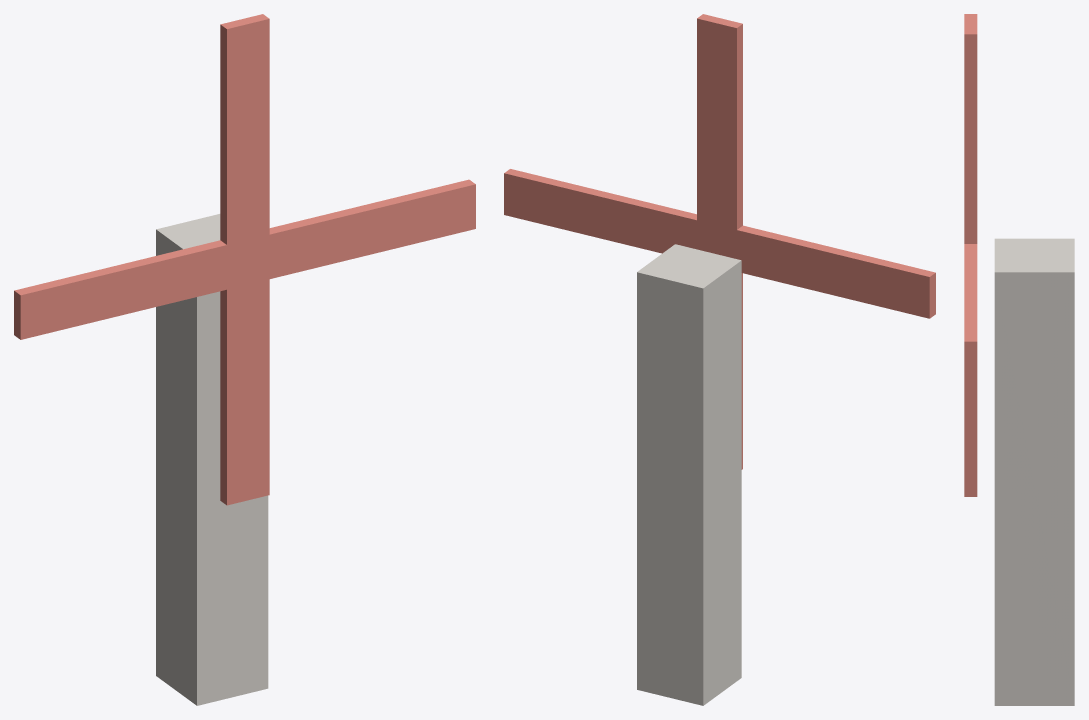
The model's file is windmill.gltf.
3 views of the same model, side by side, from view 1: azimuth 30°, elevation 25°; view 2: azimuth 150°, elevation 25°; view 3: azimuth 270°, elevation 25° (orthographic). The views are drawn at different scales.
Visible parts, largest first — view 1: Tower, Blade B, Blade A; view 2: Tower, Blade A, Blade B; view 3: Tower, Blade B, Blade A.
Boxes of the visible parts, left/top/right/bottom form: Tower: left=156, top=214, right=268, bottom=705; Blade B: left=220, top=14, right=269, bottom=505; Blade A: left=14, top=179, right=475, bottom=339; Tower: left=637, top=244, right=741, bottom=705; Blade A: left=504, top=169, right=935, bottom=318; Blade B: left=697, top=14, right=742, bottom=469; Tower: left=994, top=238, right=1074, bottom=705; Blade B: left=964, top=14, right=977, bottom=496; Blade A: left=964, top=244, right=977, bottom=384.
Size of the model in its own units: 3.2 by 4.6 by 0.69.
